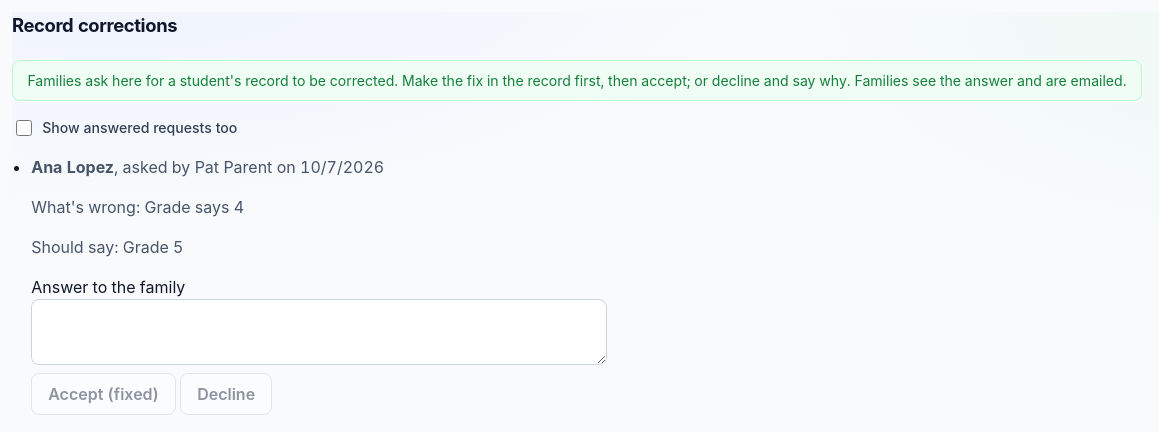
Test: CorrectionsQueue › answers a request, needing a reply first
Expected: the text "Ana Lopez" is shown, [31, 157, 114, 177]
Expected: the button "Decline" is disabled, [180, 373, 272, 415]
Type "Grade 4 is right." into the text box labelled "Answer to the family" at (319, 332), box [31, 299, 607, 365]
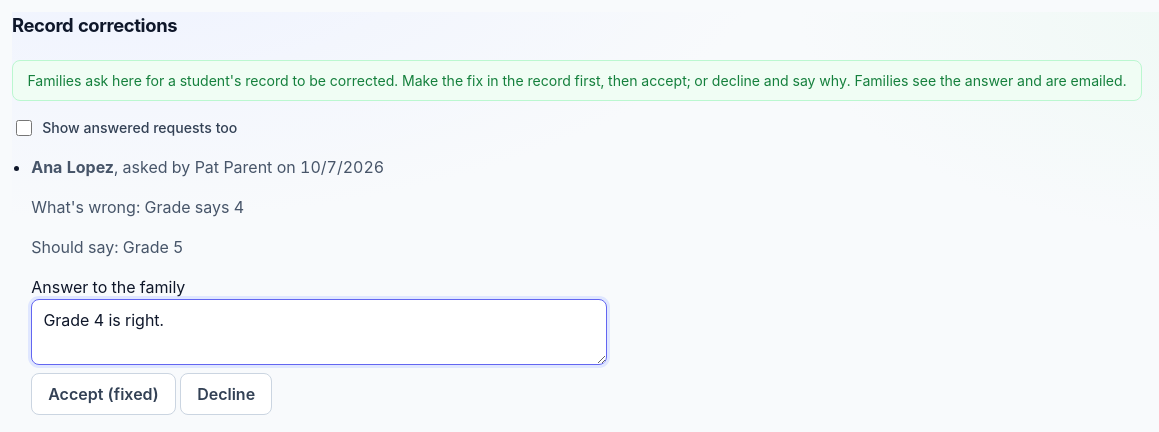
Click the button "Decline" at (226, 394), box [180, 373, 272, 415]
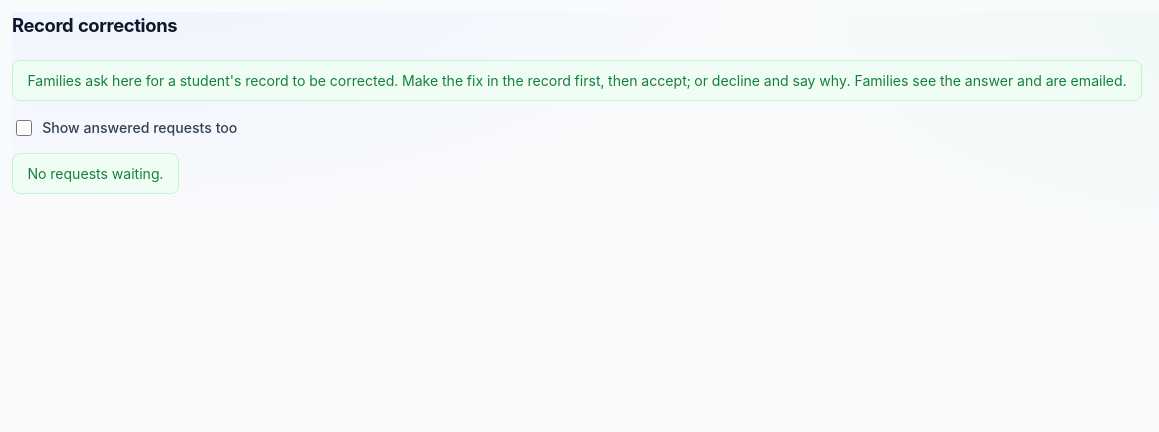
Result: the text "No requests waiting." is shown at [12, 153, 179, 194]
